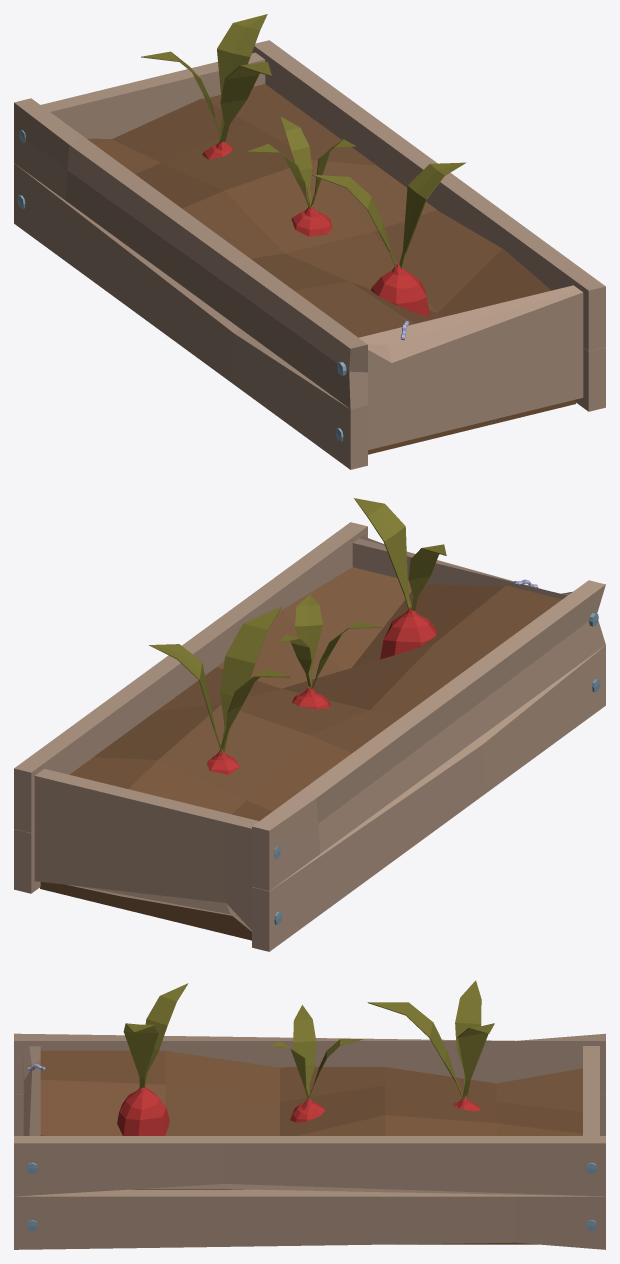
Rendered from Garden_2.fbx.
The picture shows the model from 3 angles, top to bottom: view 1: azimuth 30°, elevation 25°; view 2: azimuth 150°, elevation 25°; view 3: azimuth 270°, elevation 25°; orthographic projection. The views are drawn at different scales.
Visible parts, largest first — view 1: Garden_2; view 2: Garden_2; view 3: Garden_2.
Part boxes in pixels (bbox=[...]): Garden_2: bbox=[14, 14, 605, 469]; Garden_2: bbox=[14, 498, 605, 951]; Garden_2: bbox=[14, 980, 605, 1249].
Size of the model in its own units: 91.11 by 204 by 73.36.
